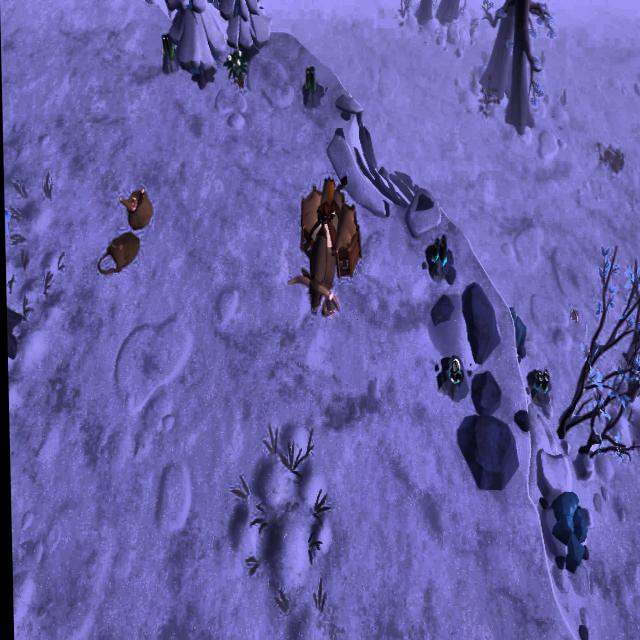fiber_t3: (224, 44, 249, 92)
ore_t3: (301, 61, 317, 92), (158, 31, 175, 58)
ore_t4: (428, 231, 447, 270), (530, 364, 551, 396)
rock_t4: (538, 483, 593, 576), (499, 300, 528, 362)
